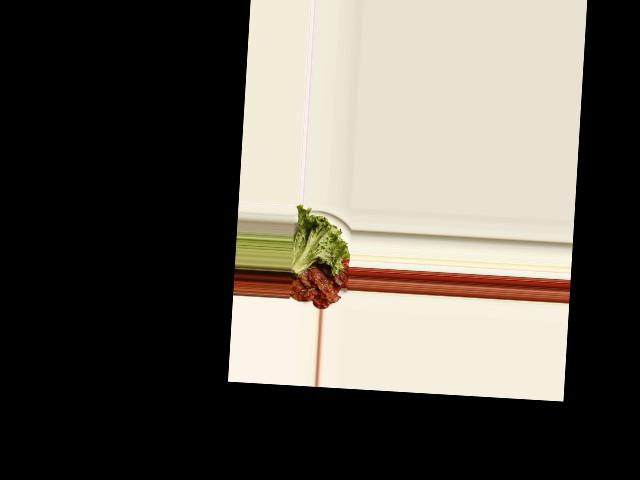lettuce: (290, 207, 350, 276)
